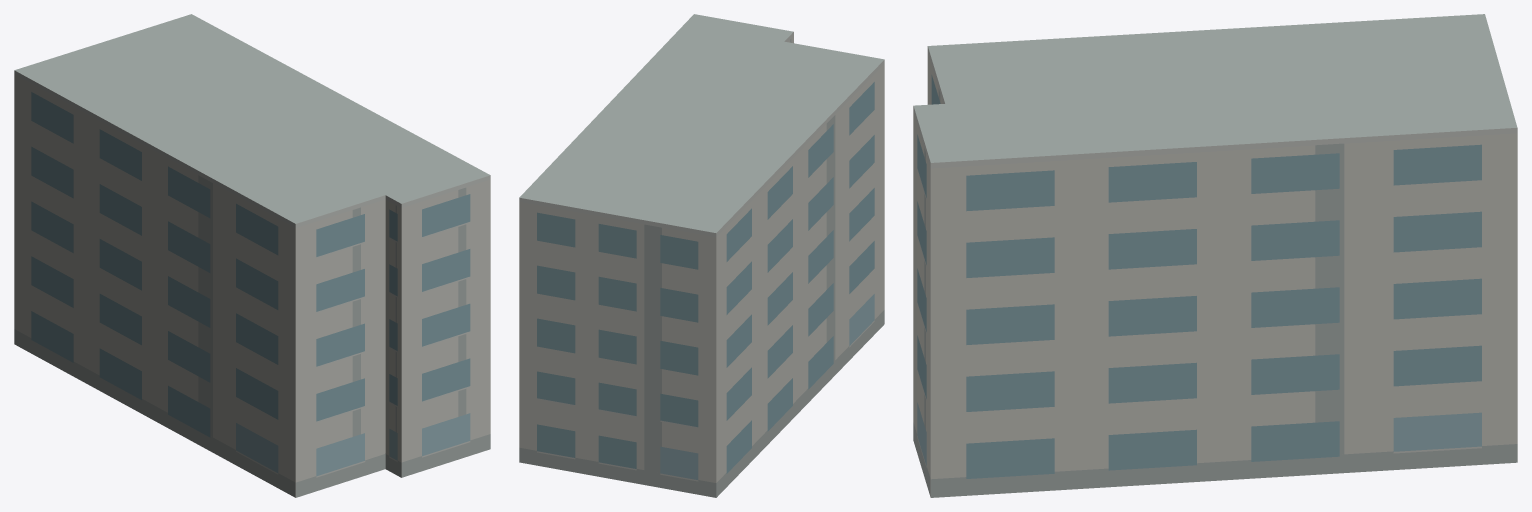
File: survey-upis-32503117.glb
The picture shows the model from 3 angles, left to right: view 1: azimuth 30°, elevation 25°; view 2: azimuth 150°, elevation 25°; view 3: azimuth 270°, elevation 25°; orthographic projection. The views are drawn at different scales.
Parts seen in each view (by area): view 1: survey-upis-32503117.tmp; view 2: survey-upis-32503117.tmp; view 3: survey-upis-32503117.tmp.
Part boxes in pixels (<box>): survey-upis-32503117.tmp: <box>14,14,490,497</box>; survey-upis-32503117.tmp: <box>519,14,884,497</box>; survey-upis-32503117.tmp: <box>913,14,1517,497</box>.
Size of the model in its own units: 14.56 by 15.25 by 24.94.
